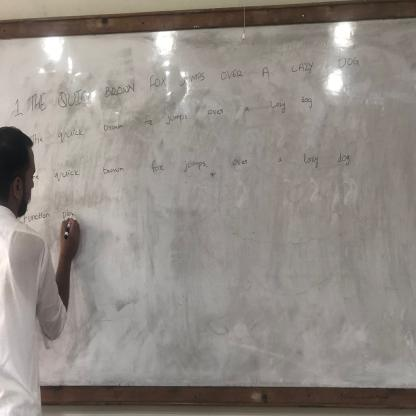Handwritten text: (21, 41, 366, 122), (25, 84, 330, 149), (53, 137, 359, 191)
Lecturer: (3, 114, 70, 416)
